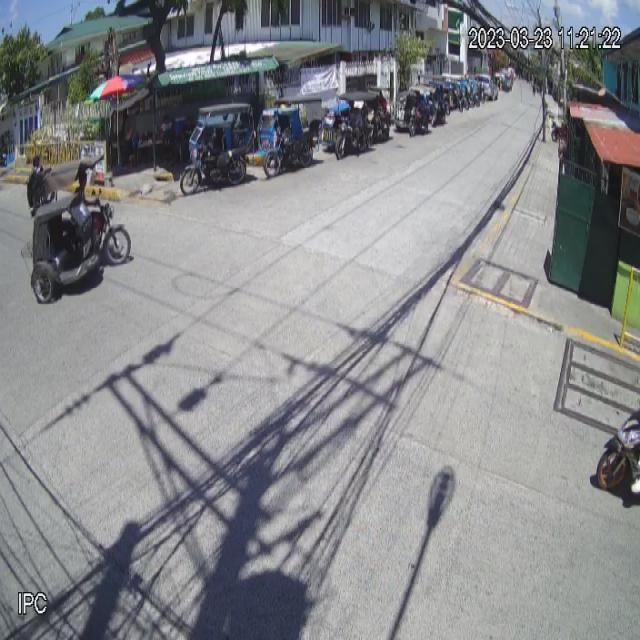Tricycle: (20, 155, 133, 306), (179, 101, 255, 195), (258, 96, 323, 179)
